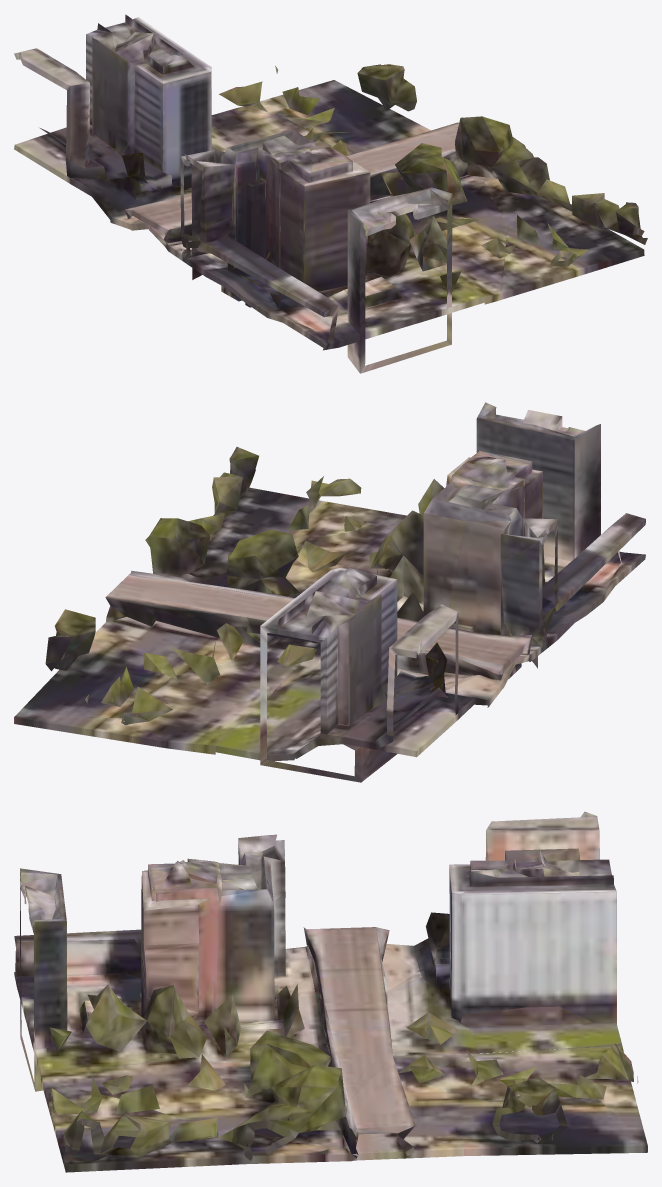
3 views of the same model, one above another, from view 1: azimuth 30°, elevation 25°; view 2: azimuth 150°, elevation 25°; view 3: azimuth 270°, elevation 25° (orthographic). The views are drawn at different scales.
Parts seen in each view (by area): view 1: Mesh_0; view 2: Mesh_0; view 3: Mesh_0.
Part boxes in pixels (x1,y1,x2,y2): Mesh_0: [14, 14, 647, 373]; Mesh_0: [14, 402, 645, 782]; Mesh_0: [14, 811, 647, 1172].
Size of the model in its own units: 134 by 53.78 by 165.
1 material, 1 textured.
